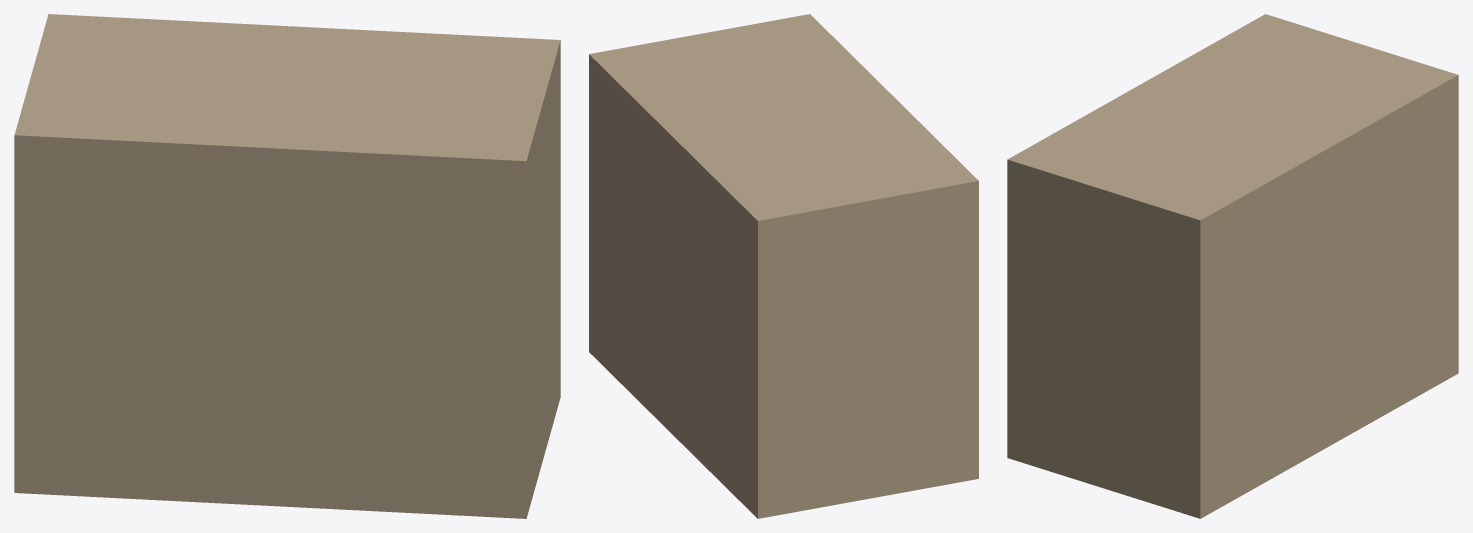
File: bld_106339072.dae
3 renders of one model, left to right at view 1: azimuth 30°, elevation 25°; view 2: azimuth 150°, elevation 25°; view 3: azimuth 270°, elevation 25°, orthographic. The views are drawn at different scales.
Visible parts, largest first — view 1: bld_106339072; view 2: bld_106339072; view 3: bld_106339072.
Part boxes in pixels (x1=…): bld_106339072: x1=14, y1=14, x2=560, y2=518; bld_106339072: x1=589, y1=14, x2=978, y2=518; bld_106339072: x1=1007, y1=14, x2=1458, y2=518.
Bounding box in the file's own units: 11.87 × 10.96 × 8.
